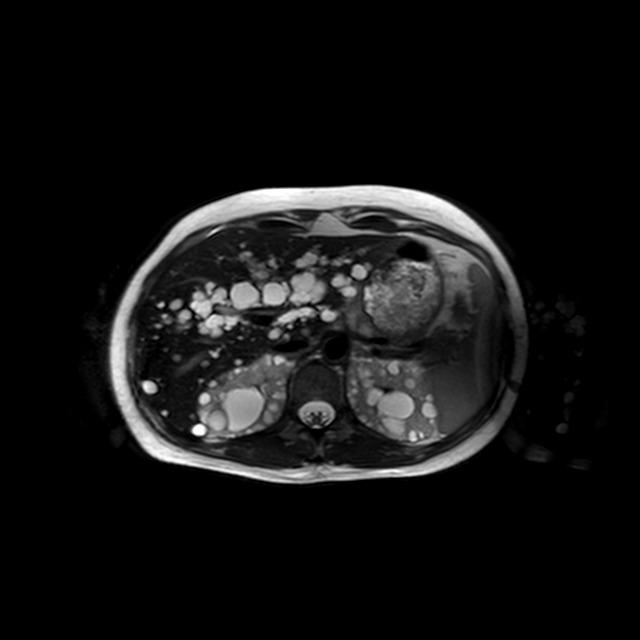sag: (189, 355, 301, 444)
sol: (345, 355, 440, 445)
